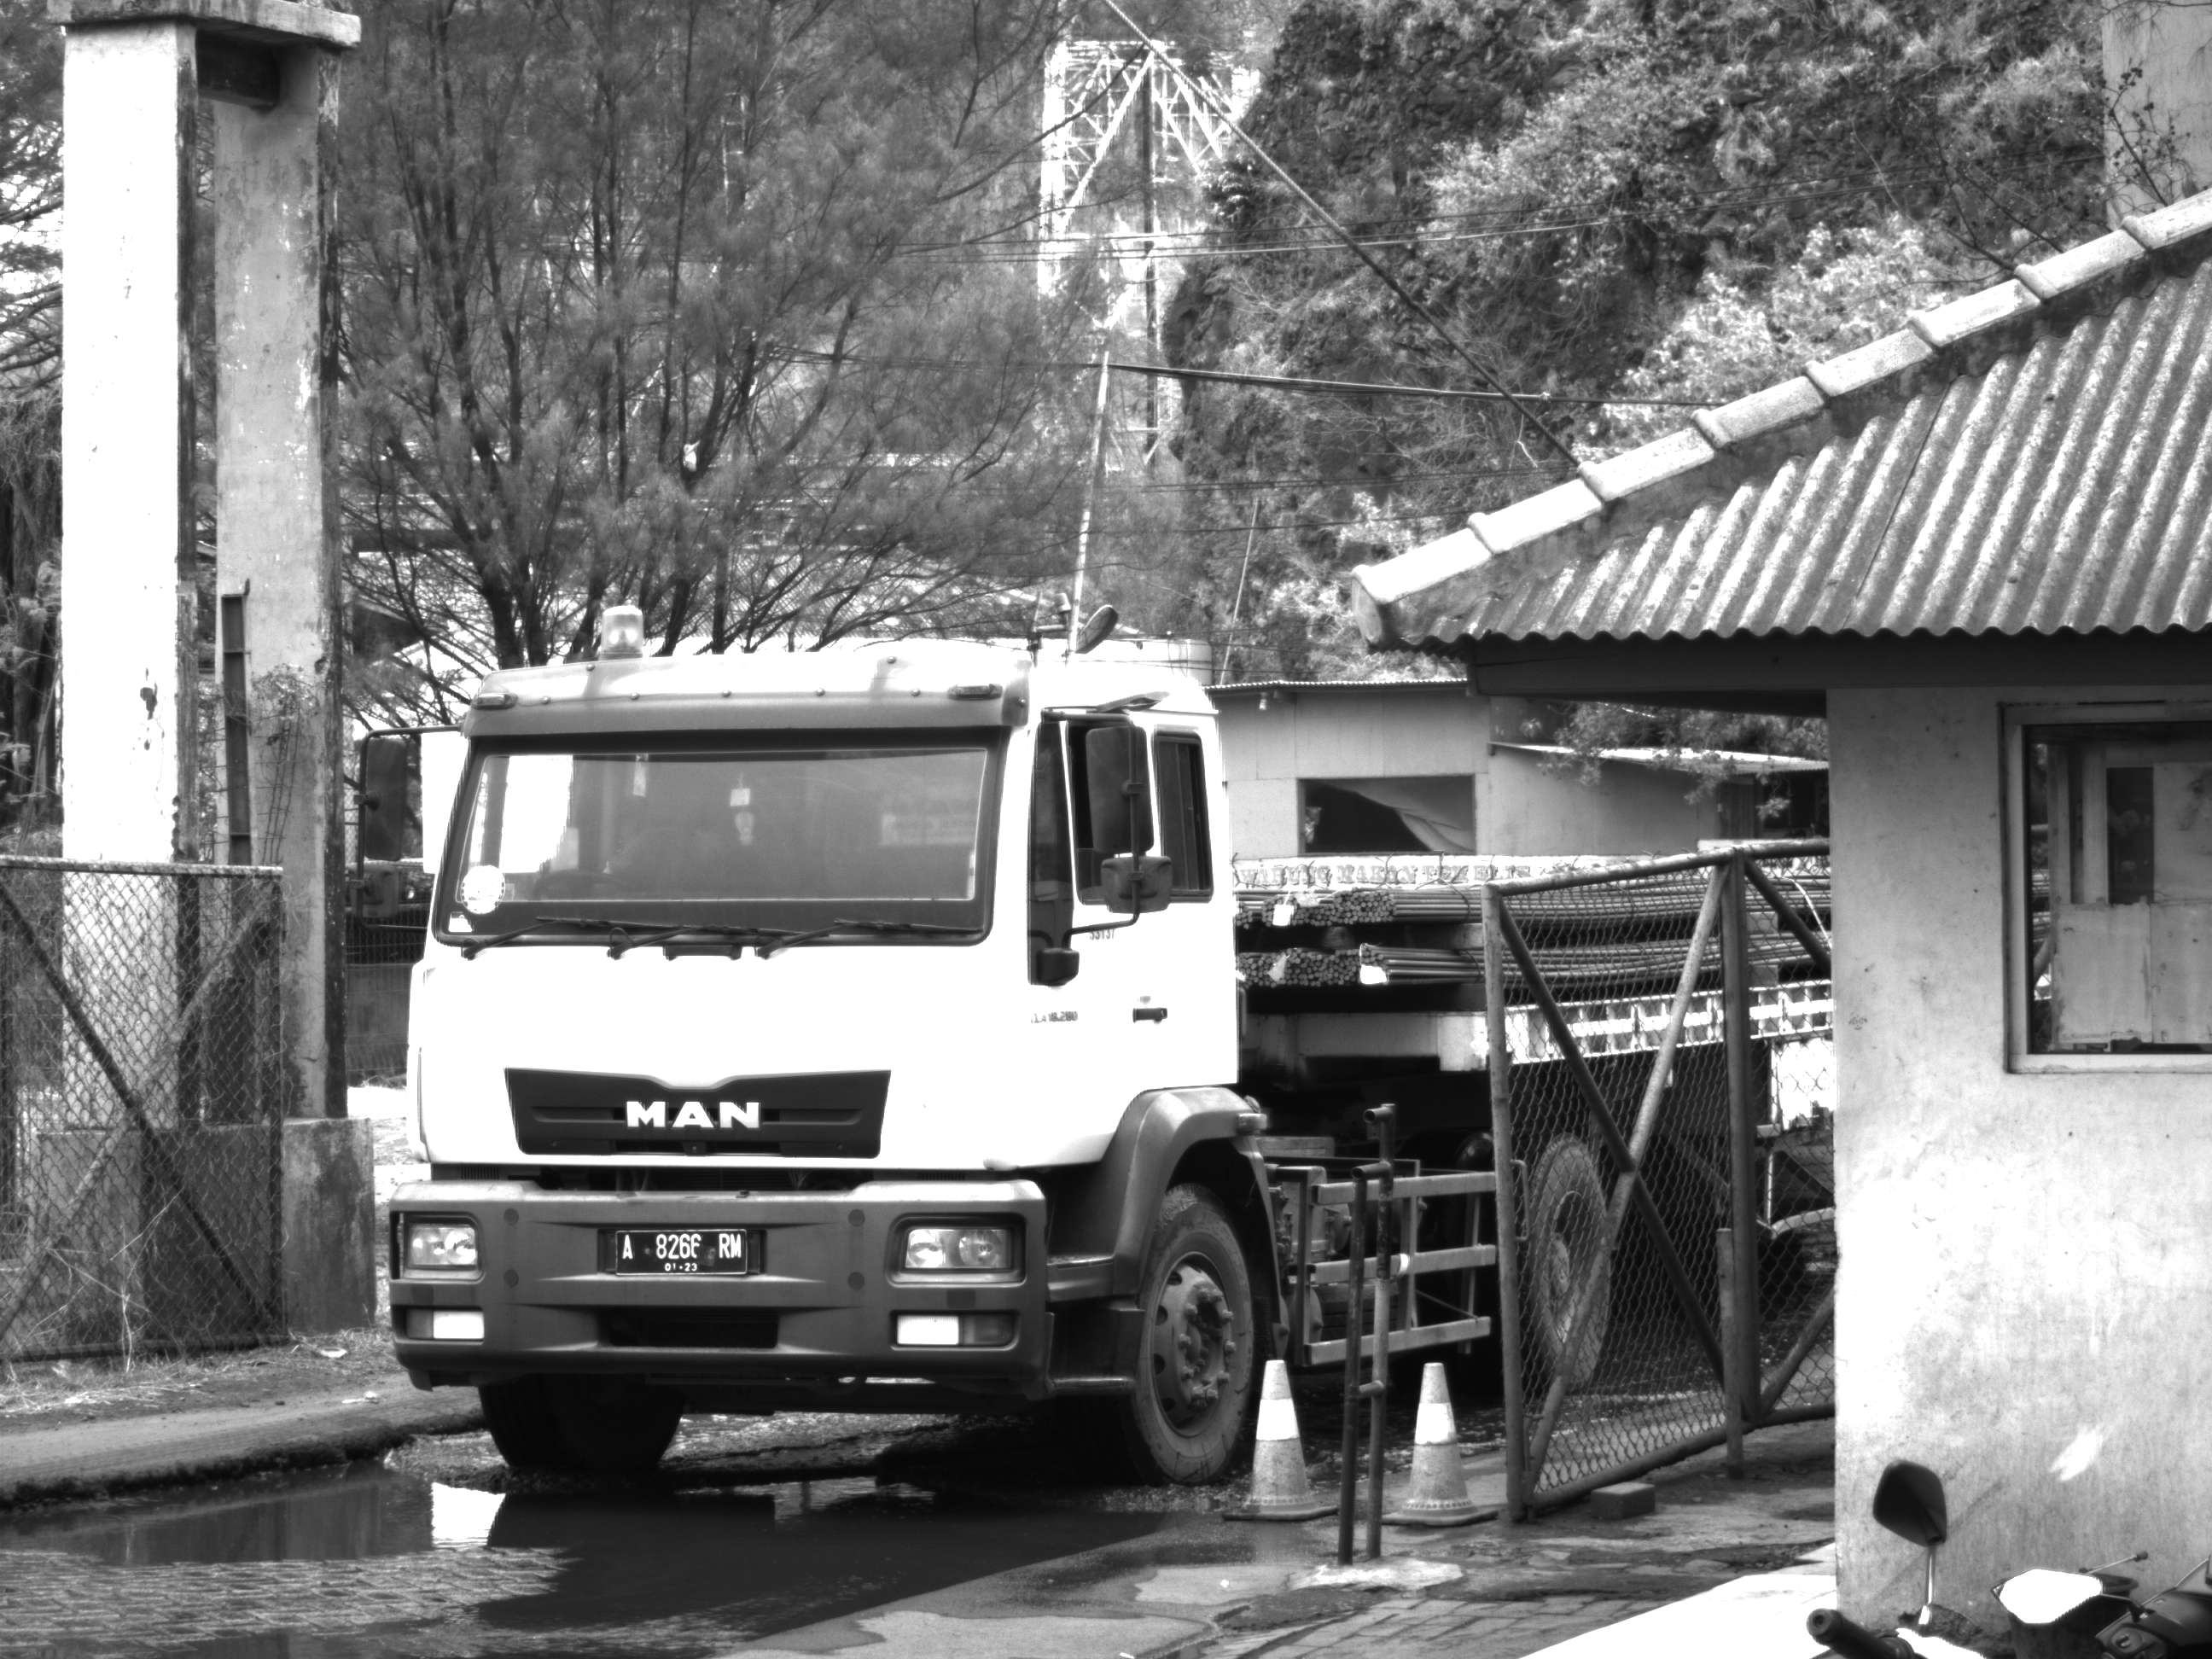day_truck_front: (349, 571, 1301, 1503)
plate: (614, 1223, 747, 1278)
